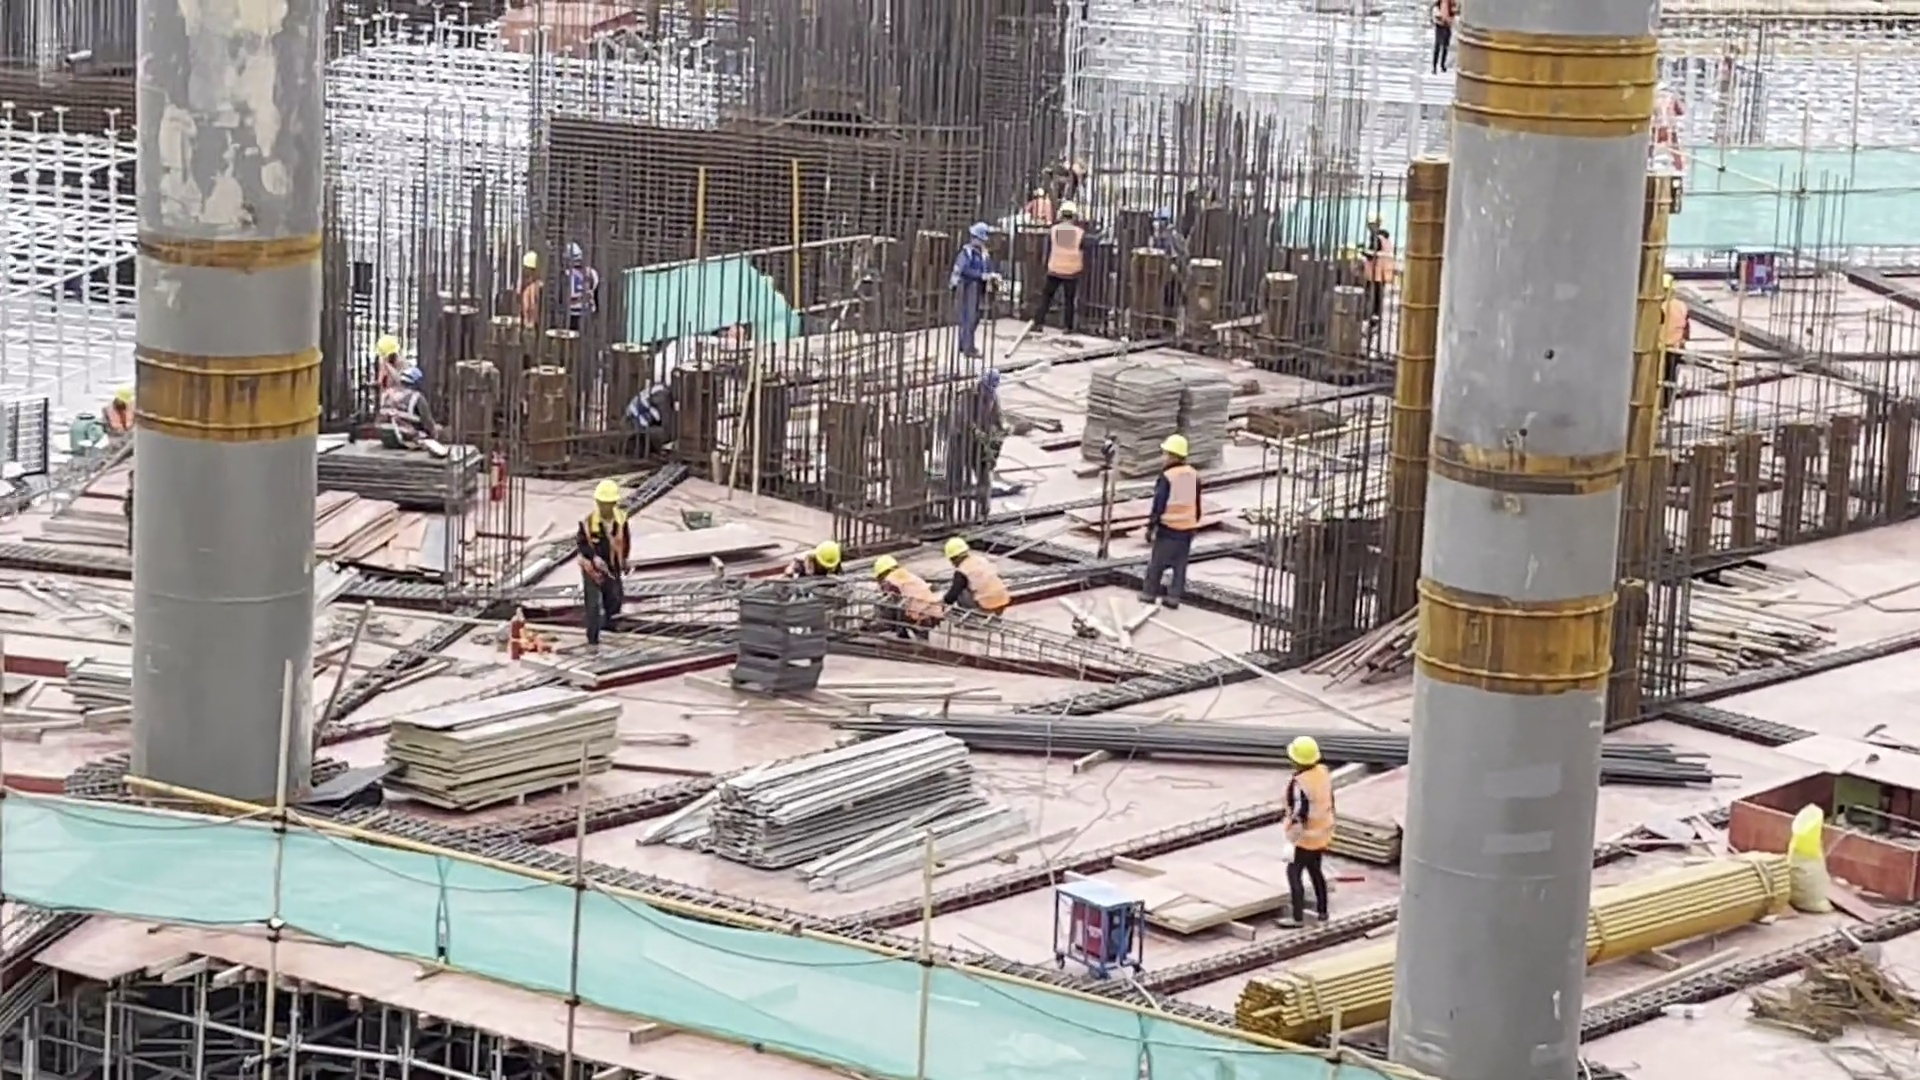helmet: (1285, 731, 1324, 768), (814, 538, 842, 570), (1161, 432, 1190, 458), (594, 478, 623, 503), (872, 553, 900, 577), (944, 535, 972, 559)
person: (1275, 730, 1340, 930), (1140, 436, 1206, 606), (573, 481, 633, 645), (949, 219, 993, 359), (1040, 203, 1089, 326), (938, 534, 1008, 619), (371, 365, 435, 456), (875, 548, 940, 636), (1655, 274, 1693, 419), (1360, 221, 1409, 306), (564, 234, 593, 306), (1427, 1, 1453, 79), (791, 534, 840, 574), (106, 381, 137, 441), (518, 248, 535, 312)
vest: (1286, 766, 1337, 857), (577, 505, 629, 589), (1154, 466, 1206, 530), (889, 568, 942, 623), (959, 558, 1009, 611), (1052, 227, 1086, 282)
